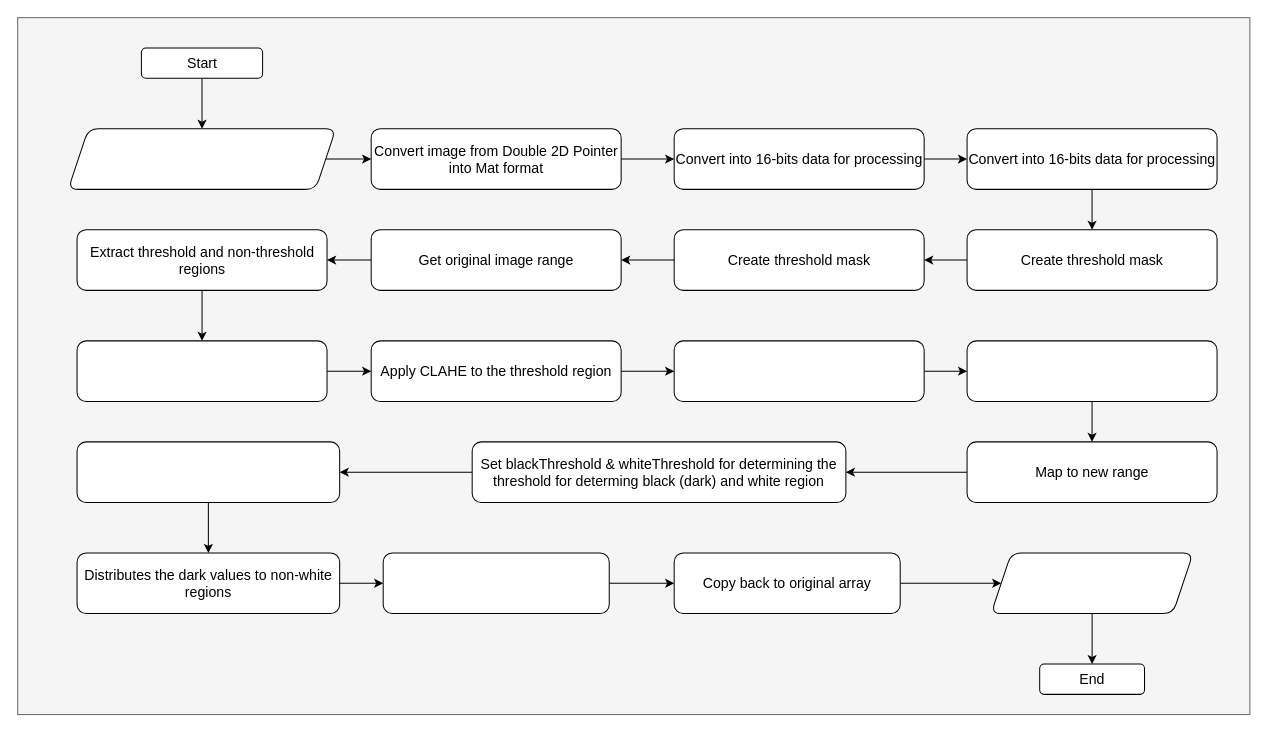
Some shapes in this 1268 by 732 pixel diagram are drawn without their labels. Here are the shapes that lost their labels. From the top down, the box of each, then its label:
(67, 128, 336, 189): Input: Threshold Value, clipLimit, Tiles
(76, 340, 327, 401): Convert to 8-bits data for CLAHE process
(673, 340, 924, 401): Convert back into 16-bits
(966, 340, 1217, 401): Calculate new range
(76, 441, 340, 502): Collect dark pixels from threshold region
(382, 552, 609, 614): Convert back to double 2D pointer
(990, 552, 1193, 614): Threshold CLAHE Result
